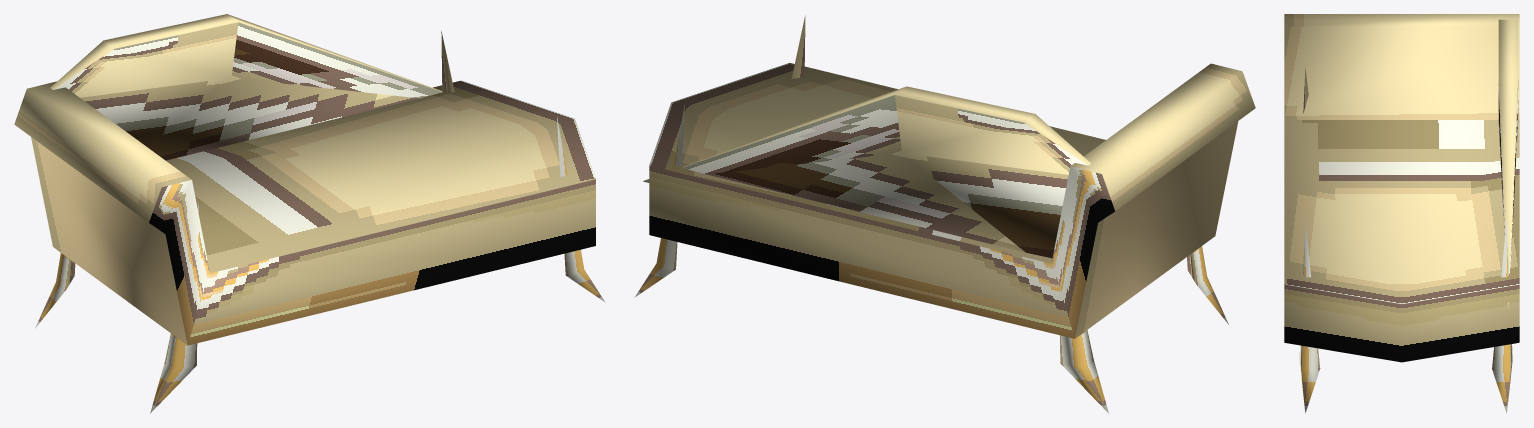
The picture shows the model from 3 angles, left to right: view 1: azimuth 30°, elevation 25°; view 2: azimuth 150°, elevation 25°; view 3: azimuth 270°, elevation 25°; orthographic projection. The views are drawn at different scales.
Parts seen in each view (by area): view 1: 3086IMRL06_04; view 2: 3086IMRL06_04; view 3: 3086IMRL06_04.
Boxes of the visible parts, x1,y1,x2,y2 form: 3086IMRL06_04: (14,14,605,413); 3086IMRL06_04: (634,15,1255,413); 3086IMRL06_04: (1284,14,1519,413).
Bounding box in the file's own units: 1.94 × 0.9966 × 0.916.
Materials: 3 (3 with a texture image).
